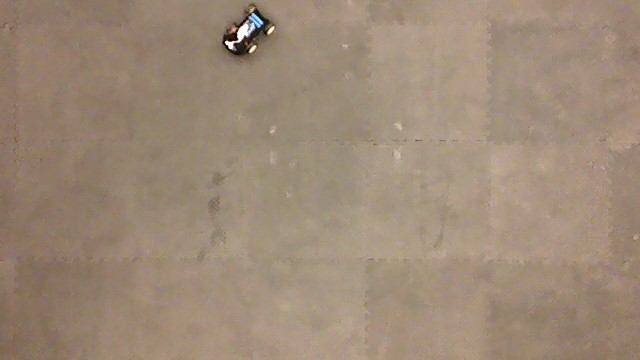Agent: (220, 2, 278, 58)
